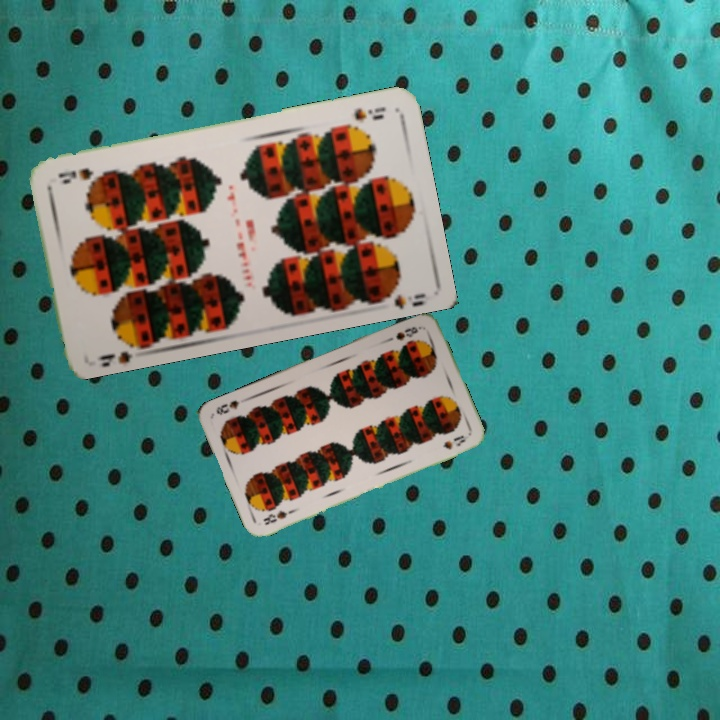S8: (259, 505, 297, 528), (392, 322, 424, 343)
S9: (93, 334, 145, 368), (350, 103, 388, 123)
